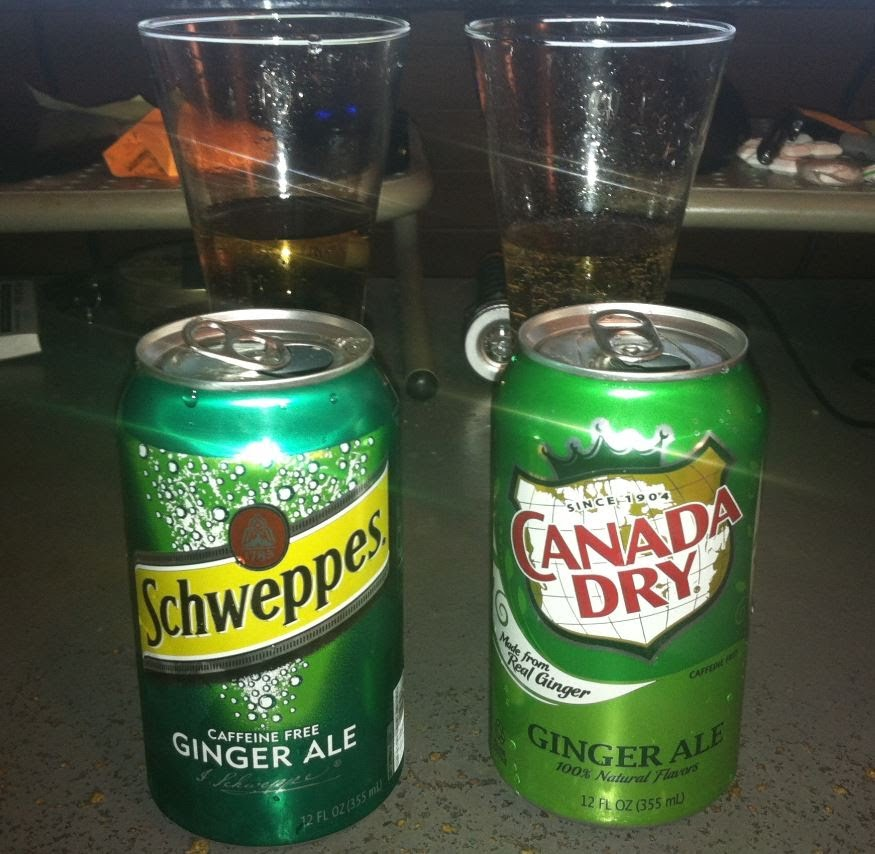Lata: (482, 293, 764, 836)
